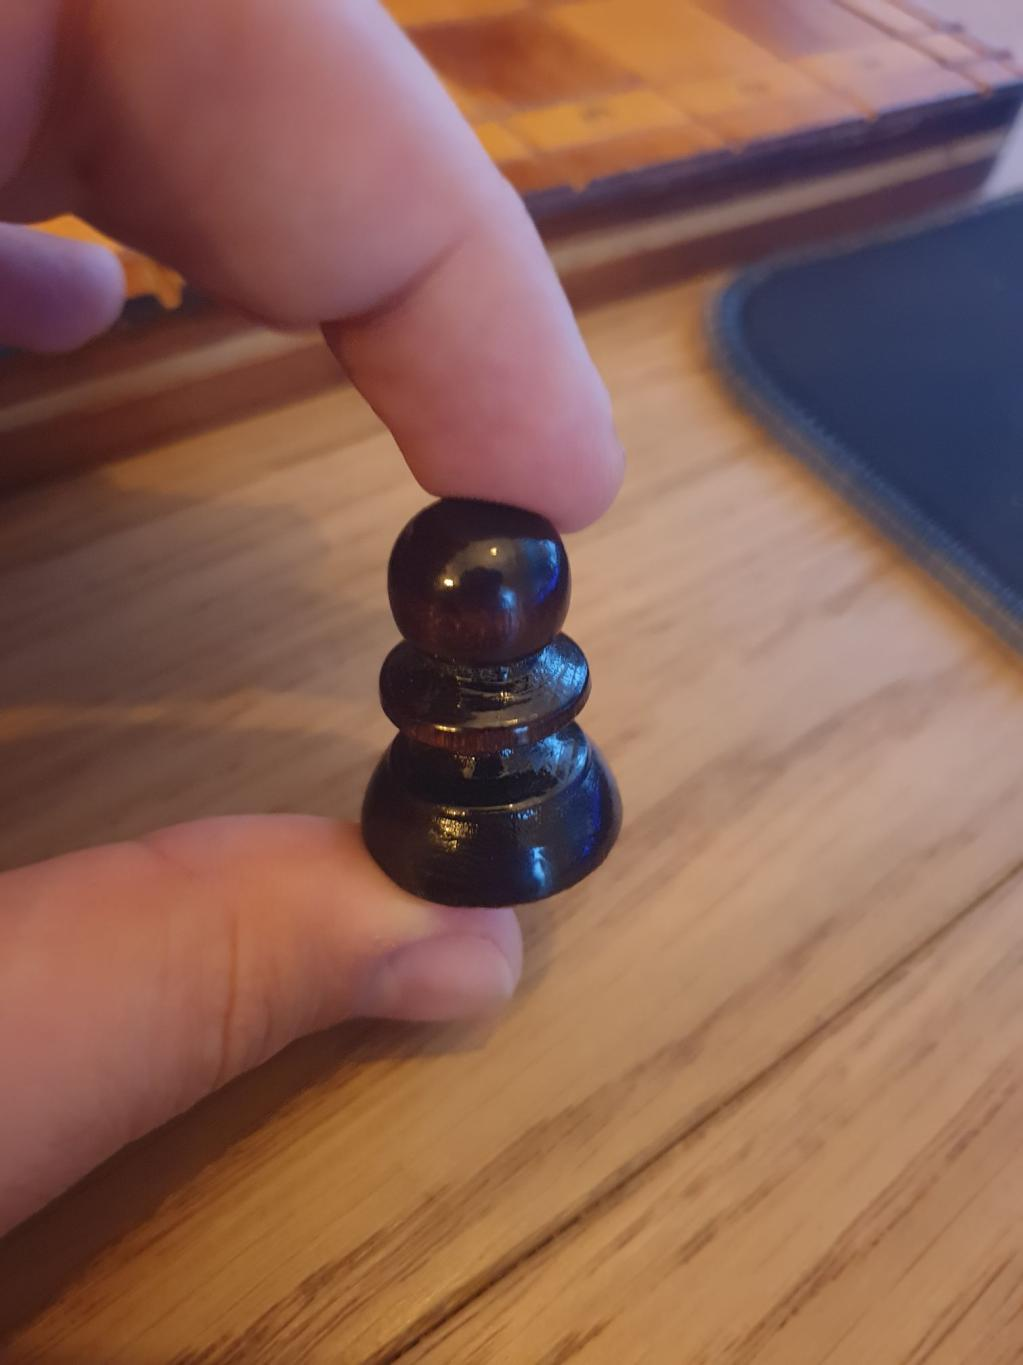bpawn: (358, 494, 622, 916)
